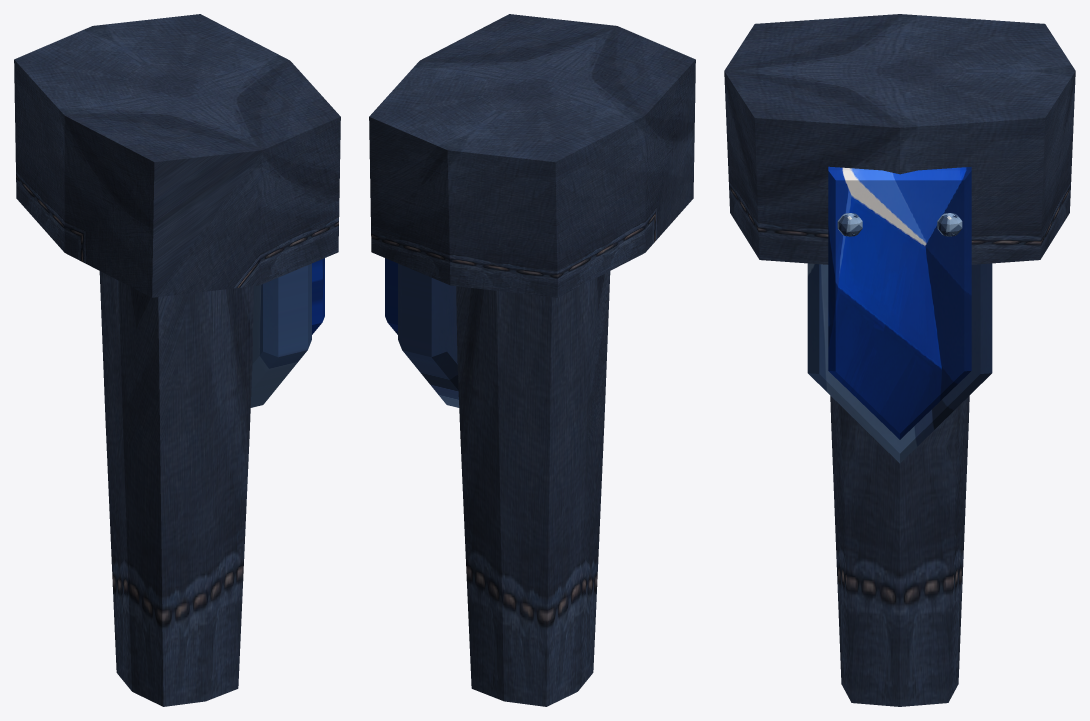
Rendered from cobalt-pants.glb.
The picture shows the model from 3 angles, left to right: view 1: azimuth 30°, elevation 25°; view 2: azimuth 150°, elevation 25°; view 3: azimuth 270°, elevation 25°; orthographic projection. The views are drawn at different scales.
Visible parts, largest first — view 1: hips, leg_L; view 2: hips, leg_L; view 3: leg_L, hips.
Part boxes in pixels (x1,y1,x2,y2): hips: (14,14,340,297); leg_L: (99,258,324,706); hips: (369,14,695,297); leg_L: (385,258,610,706); leg_L: (807,166,992,706); hips: (724,14,1075,264).
Bounding box in the file's own units: 0.2026 × 0.4619 × 0.24.
Materials: 3 (3 with a texture image).
